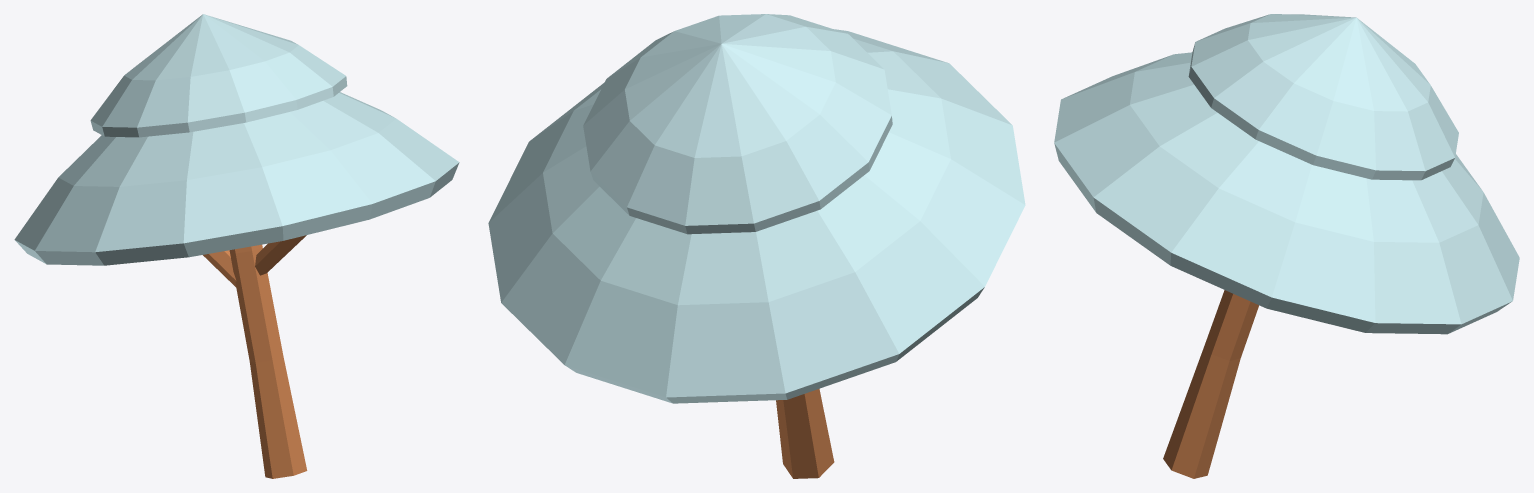
The model's file is beach_umbrella_blue.fbx.
The picture shows the model from 3 angles, left to right: view 1: azimuth 30°, elevation 25°; view 2: azimuth 150°, elevation 25°; view 3: azimuth 270°, elevation 25°; orthographic projection. The views are drawn at different scales.
Visible parts, largest first — view 1: beach_umbrella_blue; view 2: beach_umbrella_blue; view 3: beach_umbrella_blue.
Boxes of the visible parts, x1,y1,x2,y2 form: beach_umbrella_blue: [14, 14, 459, 478]; beach_umbrella_blue: [488, 14, 1025, 478]; beach_umbrella_blue: [1054, 14, 1519, 478].
Bounding box in the file's own units: 234 × 235 × 218.
1 material, 1 textured.
